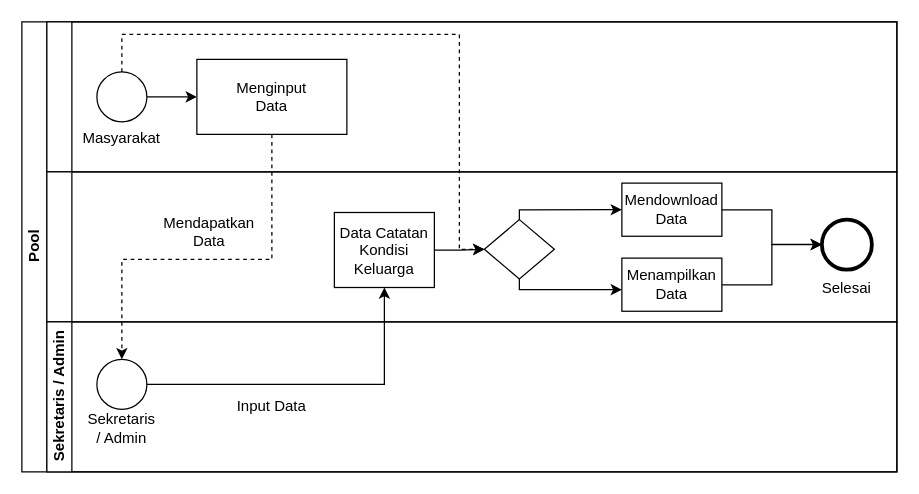
Some shapes in this 919 by 494 pixel diagram are drawn without their labels. The box of each missing label's shape, as (x1, y1, x2, y2) in pixels:
Masyarakat / User: (46, 21, 897, 172)
Server / Website: (46, 171, 897, 322)
